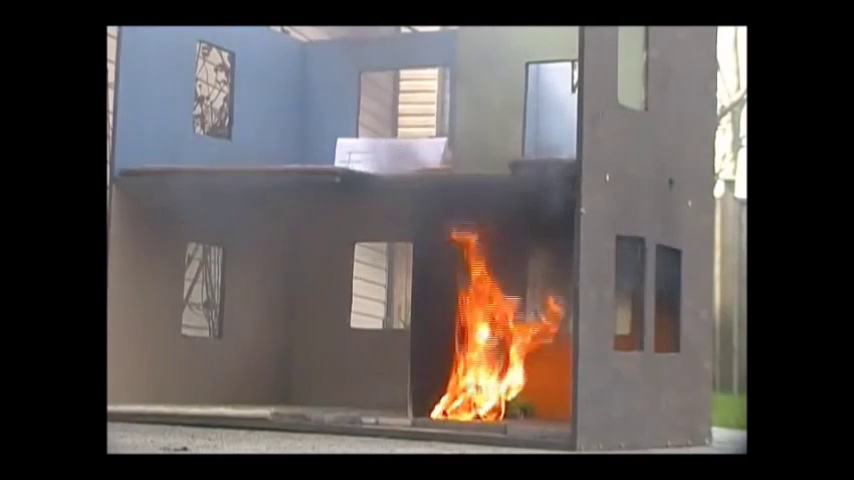fire: (436, 235, 558, 420)
